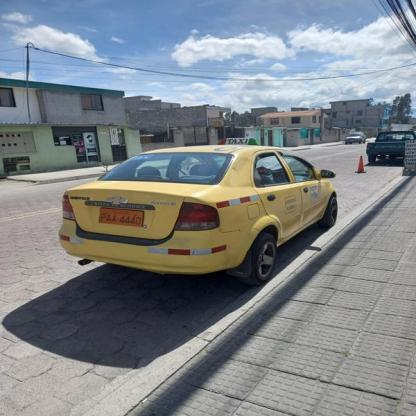Placa: (97, 205, 146, 231)
